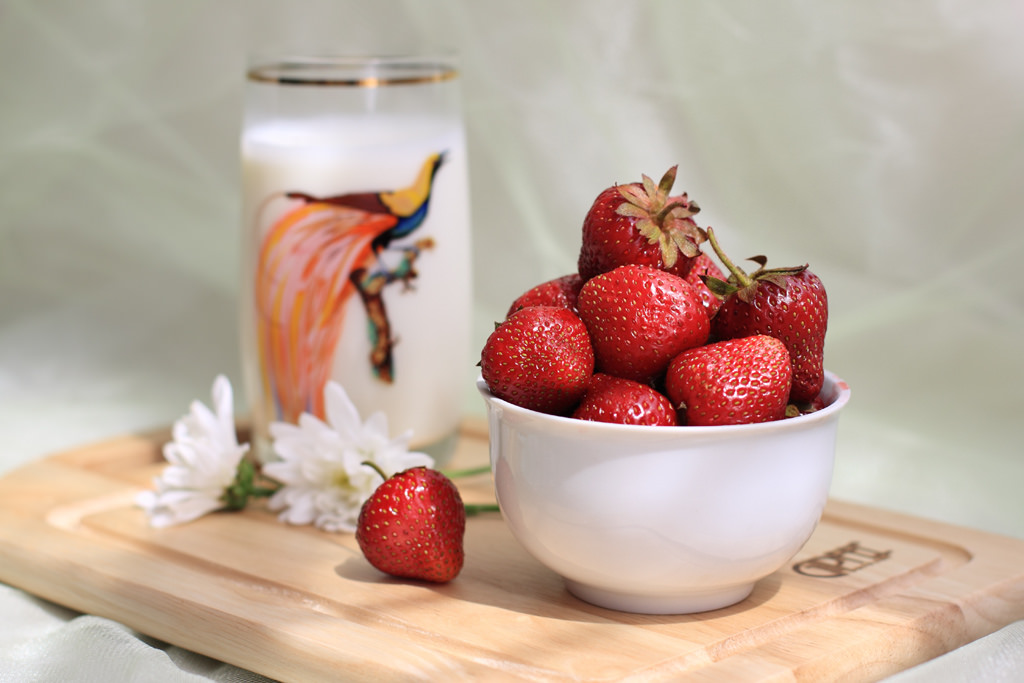glass of milk: (232, 51, 474, 466)
